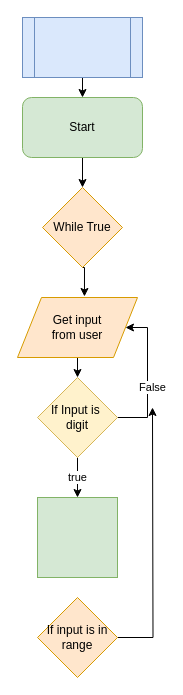
Some shapes in this 183 by 695 pixel diagram are drawn without their labels. The shapes that lost their labels are listed below. From the top down, each one's box as (x1, y1, x2, y2) in pixels, then its label:
(22, 16, 142, 78): Guess From User
(36, 496, 118, 578): convert input to int()
